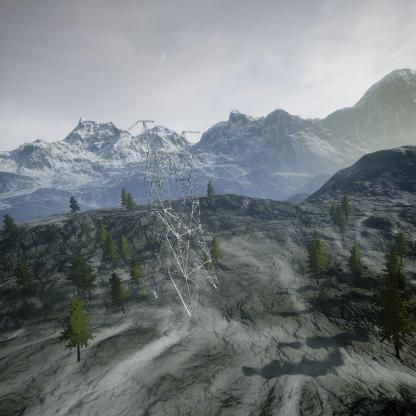tower: (126, 116, 225, 325)
